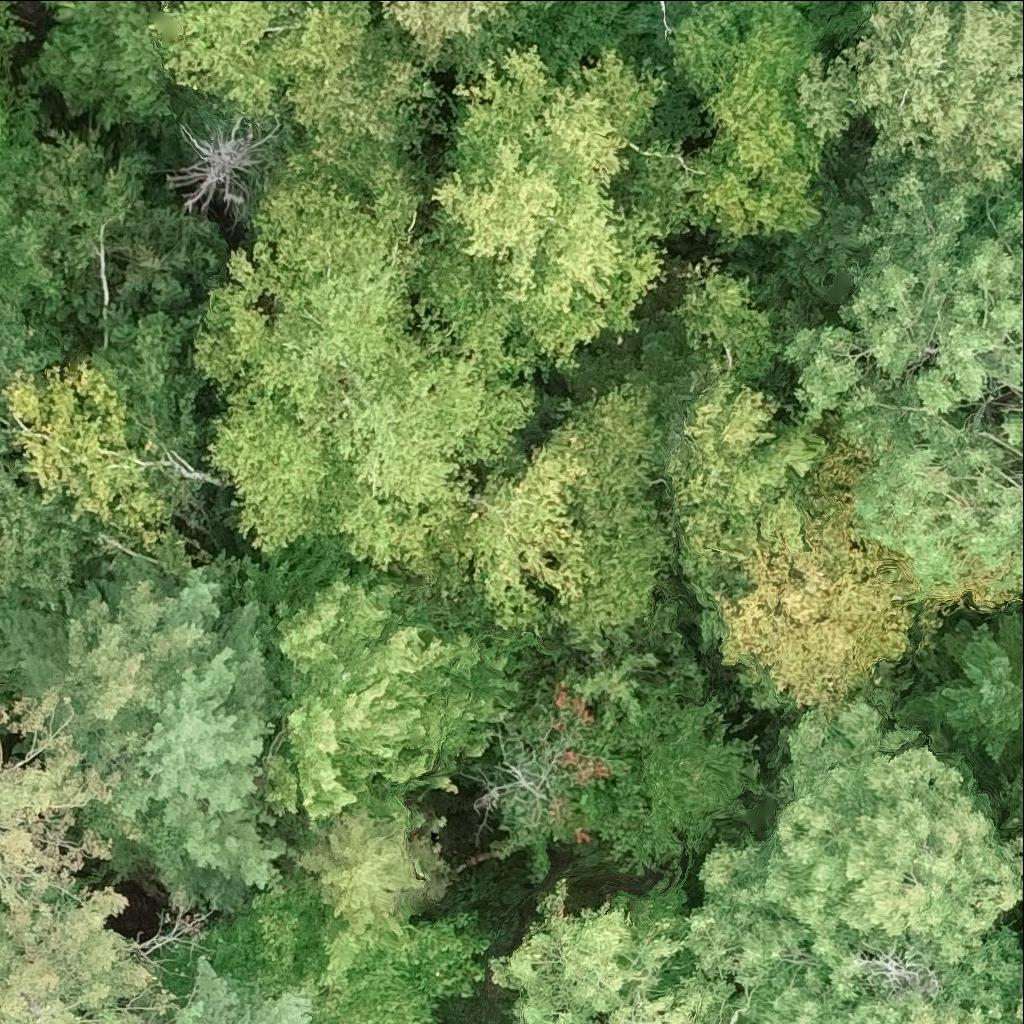crown: (193, 169, 532, 606), (684, 698, 1023, 1023), (0, 552, 297, 913), (785, 168, 1023, 604), (411, 44, 694, 377), (242, 536, 542, 840), (716, 430, 1023, 709), (669, 258, 846, 641), (157, 0, 439, 212), (798, 0, 1023, 183), (669, 0, 827, 240), (207, 897, 491, 1023), (491, 881, 737, 1023), (36, 580, 205, 779), (5, 356, 175, 552), (0, 686, 131, 939), (484, 689, 651, 884), (607, 674, 765, 878), (436, 445, 601, 635), (0, 897, 179, 1023), (299, 806, 445, 954), (545, 384, 662, 533), (39, 0, 173, 126), (563, 519, 672, 655), (927, 612, 1023, 762), (349, 0, 510, 57), (172, 958, 311, 1023), (558, 654, 662, 734), (990, 0, 1023, 17), (660, 0, 671, 34), (1016, 993, 1023, 1020), (868, 0, 879, 8), (105, 0, 116, 1)
